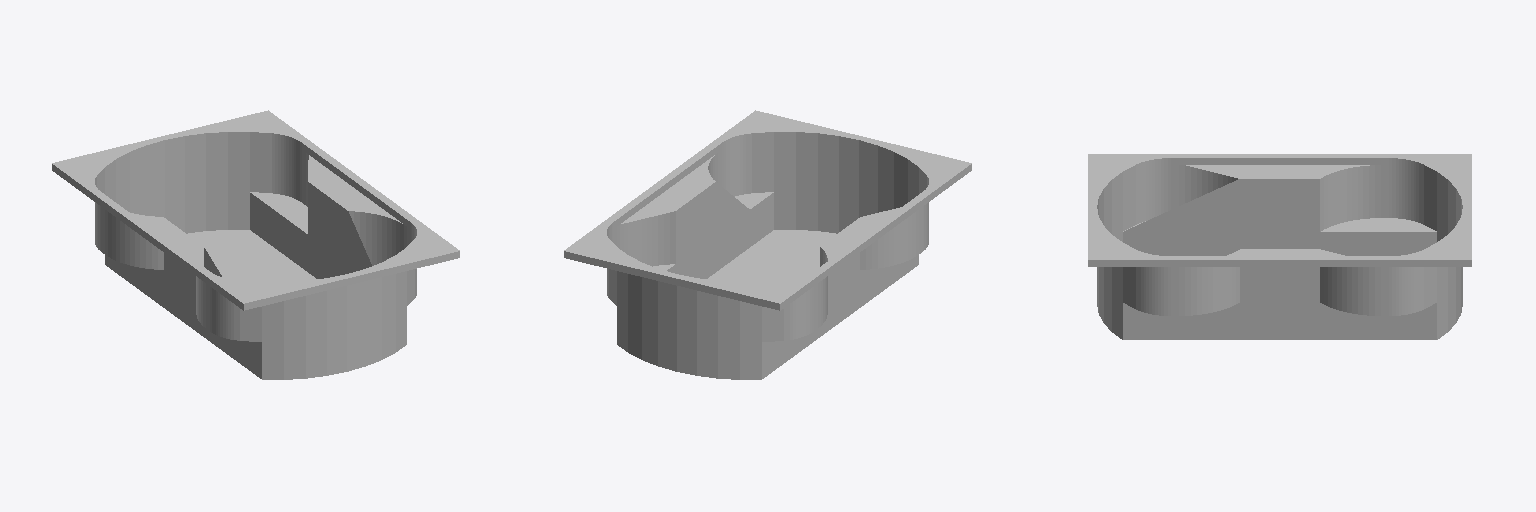
The model's file is NAIR_BLANCA.obj.
3 views of the same model, side by side, from view 1: azimuth 30°, elevation 25°; view 2: azimuth 150°, elevation 25°; view 3: azimuth 270°, elevation 25° (orthographic).
Visible parts, largest first — view 1: Mesh1 Group1 Model; view 2: Mesh1 Group1 Model; view 3: Mesh1 Group1 Model.
Boxes of the visible parts, box(x1,y1,x2,y2) form: Mesh1 Group1 Model: box(52, 110, 459, 379); Mesh1 Group1 Model: box(564, 110, 971, 379); Mesh1 Group1 Model: box(1088, 154, 1471, 339).
Size of the model in its own units: 116 by 50 by 178.